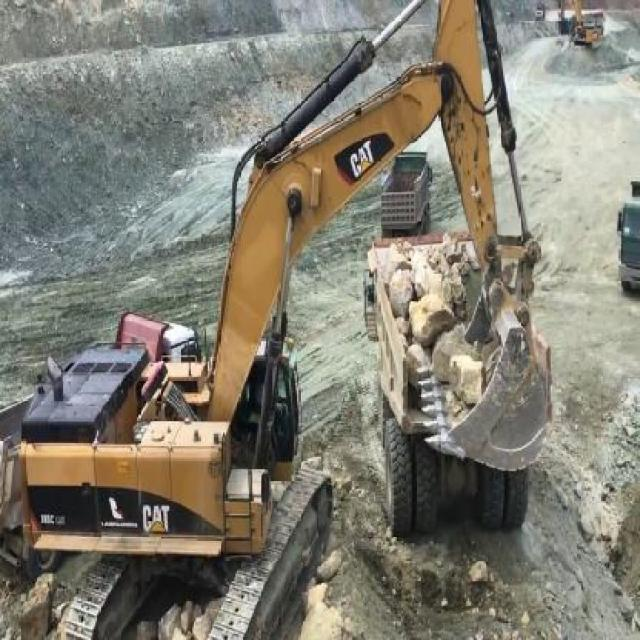dump truck: (362, 225, 535, 541), (0, 308, 198, 429), (380, 151, 434, 240), (615, 182, 639, 289)
excavator: (17, 0, 548, 638), (558, 0, 604, 48)
